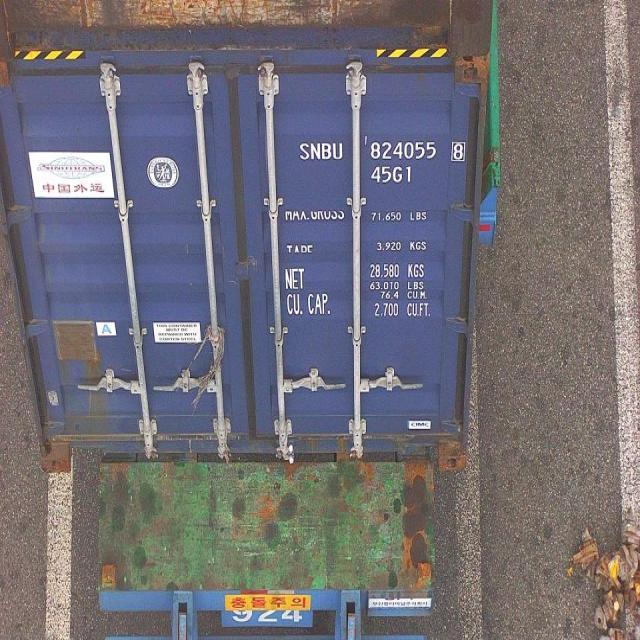ISO: (372, 164, 413, 185)
container_number: (304, 140, 466, 163)
